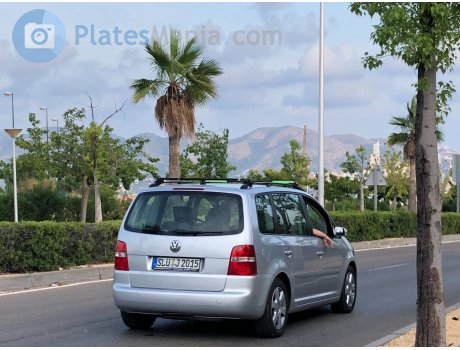License Plates: (149, 253, 207, 268)
